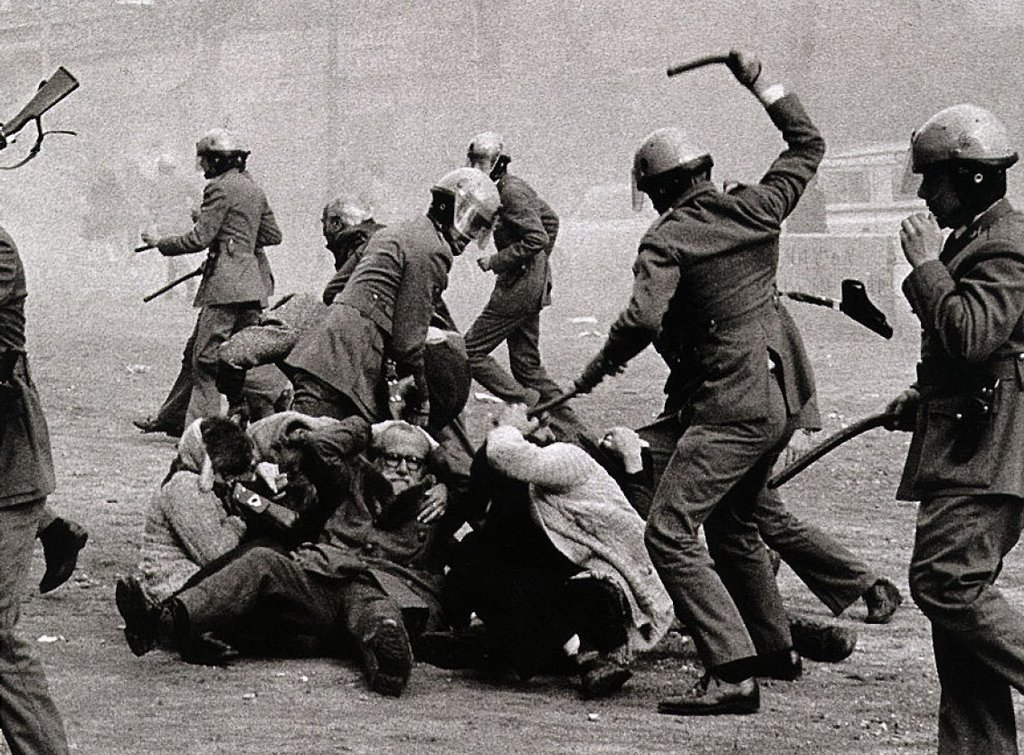Person: (0, 47, 1024, 754)
